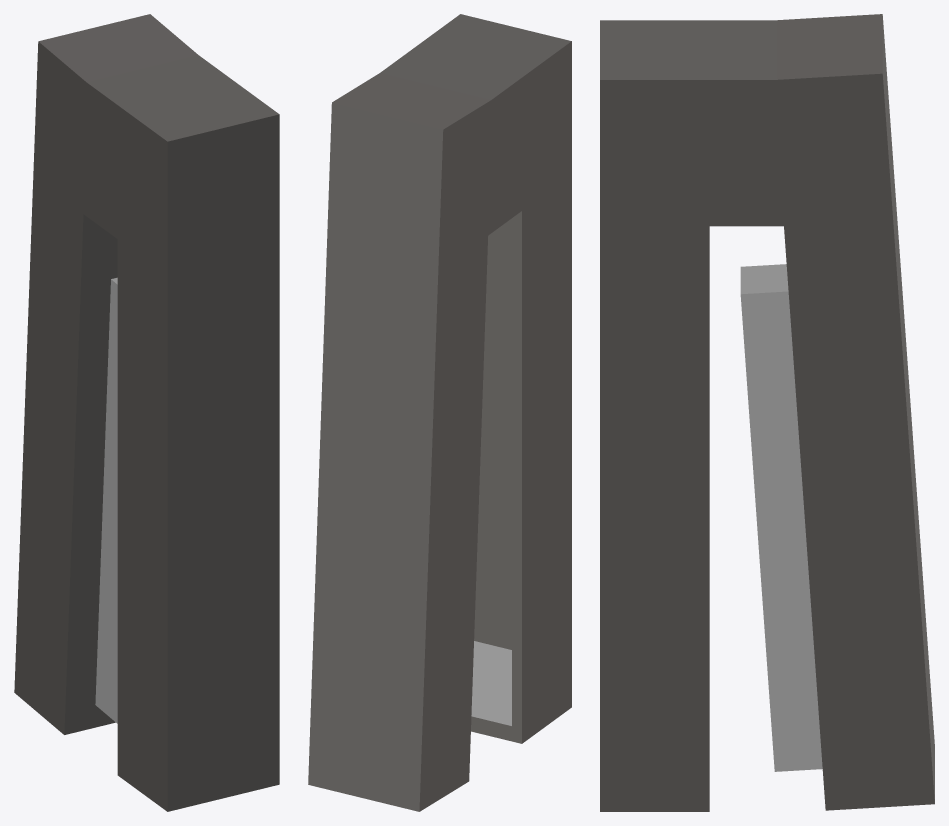
Rendered from Stapler.glb.
3 renders of one model, left to right at view 1: azimuth 30°, elevation 25°; view 2: azimuth 150°, elevation 25°; view 3: azimuth 270°, elevation 25°, orthographic. The views are drawn at different scales.
Visible parts, largest first — view 1: SO_Stapler; view 2: SO_Stapler; view 3: SO_Stapler.
Part boxes in pixels (x1=…): SO_Stapler: x1=14, y1=14, x2=279, y2=811; SO_Stapler: x1=308, y1=14, x2=571, y2=811; SO_Stapler: x1=600, y1=14, x2=934, y2=811.
Size of the model in its own units: 0.0815 by 0.4698 by 0.1931.
Materials: 1 (1 with a texture image).
